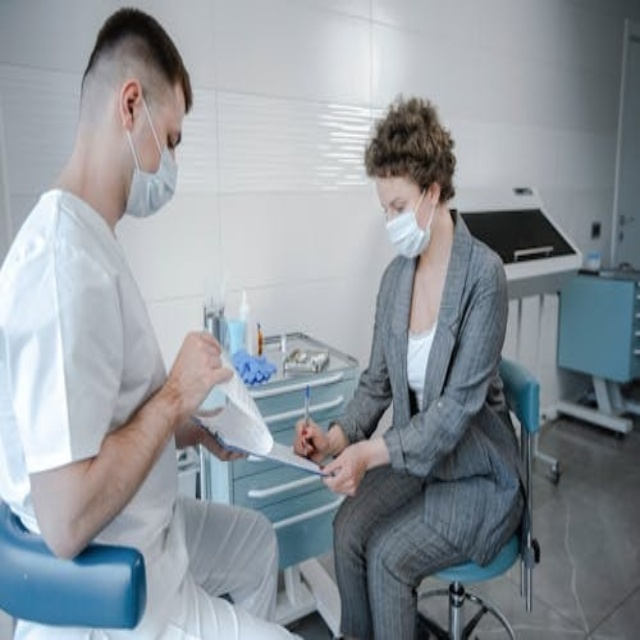Mascara: (124, 94, 178, 217), (385, 187, 435, 260)
Sin_gafas: (156, 102, 184, 150), (378, 186, 408, 215)
Sin_guantes: (169, 325, 233, 402), (317, 434, 365, 504), (188, 421, 251, 464), (293, 414, 333, 462)
